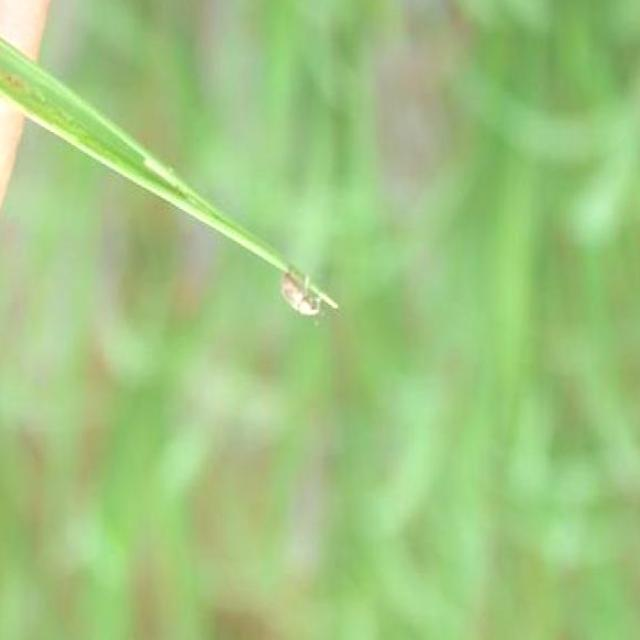ricebug: (280, 273, 321, 316)
